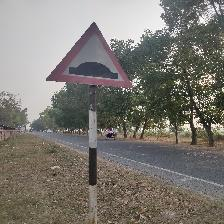Speed-breaker: (48, 25, 130, 86)
